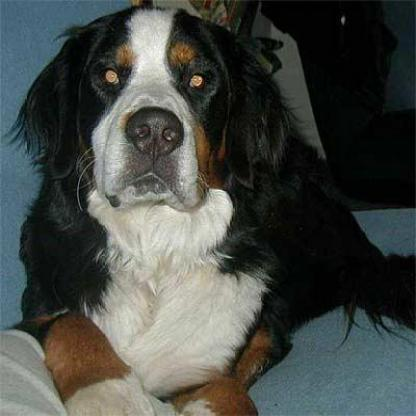EntleBucher: (1, 2, 414, 414)
